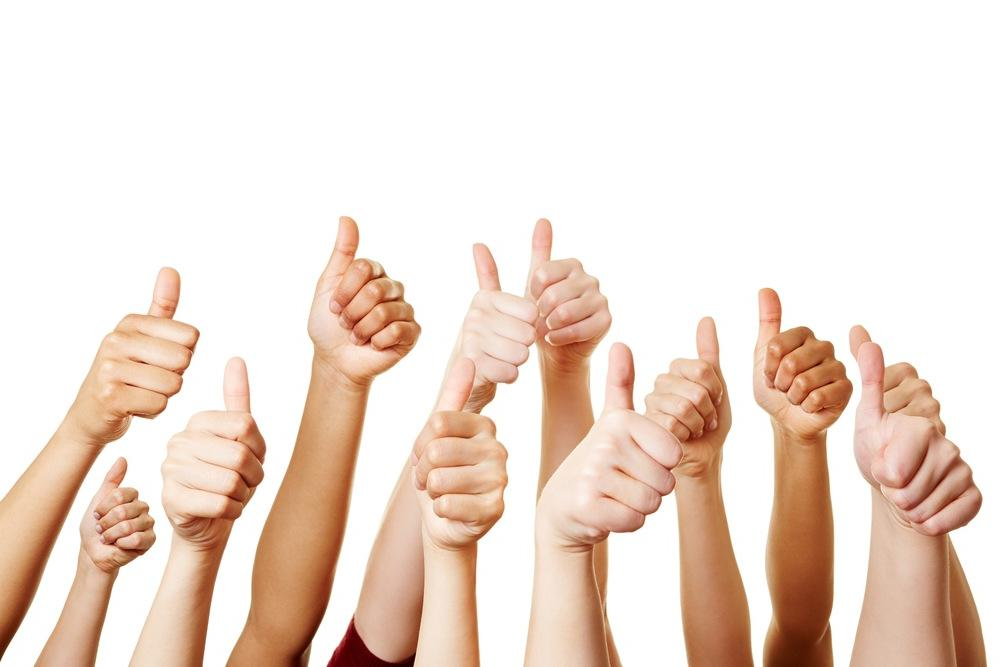thumbsup: (853, 340, 985, 538), (566, 340, 685, 544), (411, 356, 513, 545), (161, 355, 271, 525), (312, 213, 423, 378), (95, 265, 202, 426), (752, 285, 858, 436), (641, 313, 736, 443), (460, 243, 543, 388), (529, 215, 613, 351), (81, 454, 159, 571)
